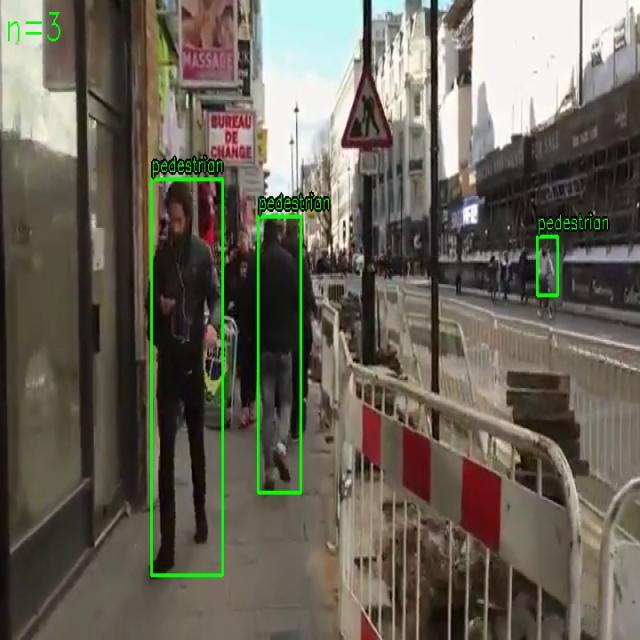with scooter: (151, 178, 223, 576), (258, 216, 302, 494), (536, 236, 558, 296)
